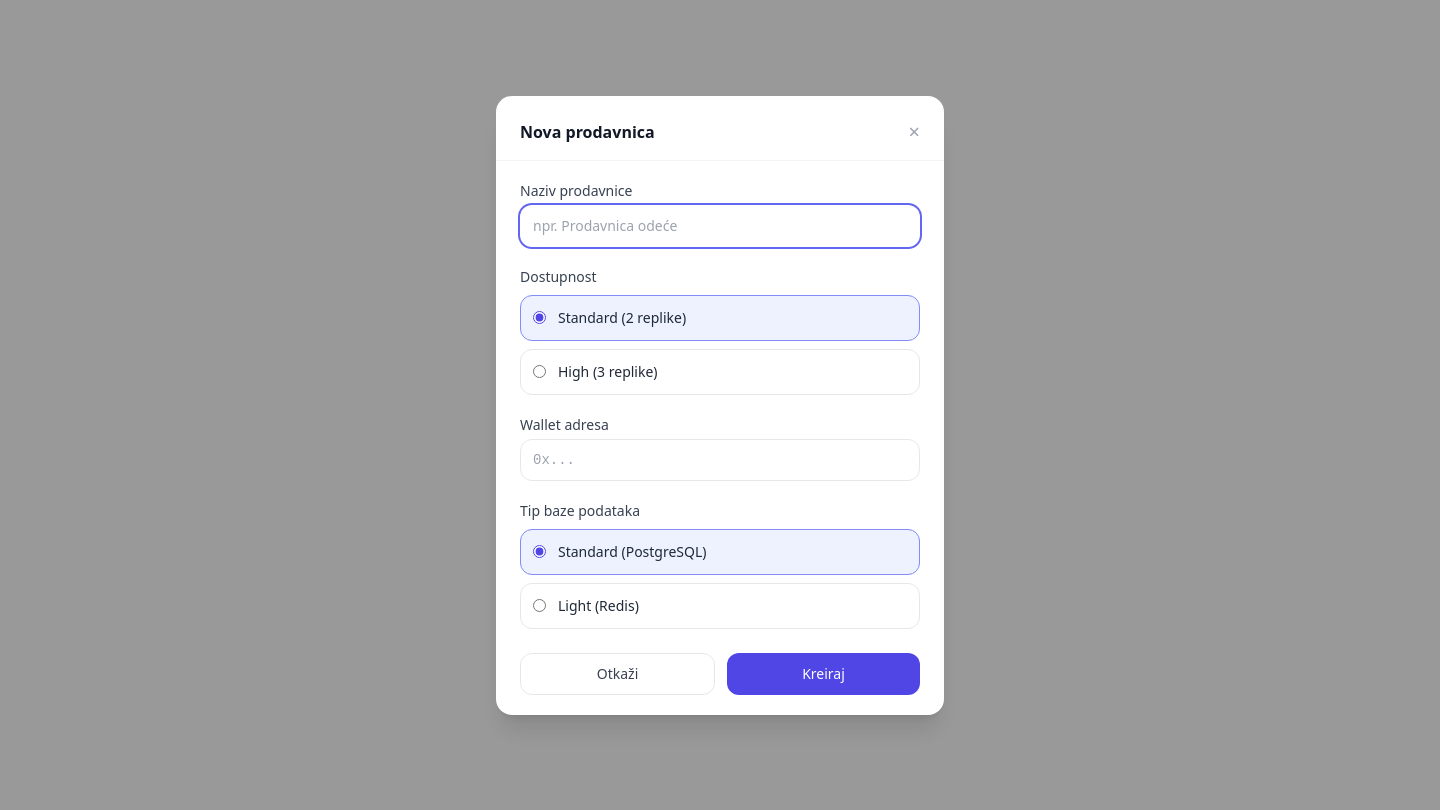
Test: CreateStoreModal › shows validation error when name is too short
Type "A" into the field with placeholder "npr. Prodavnica odeće" at (720, 226), box [520,204,920,246]
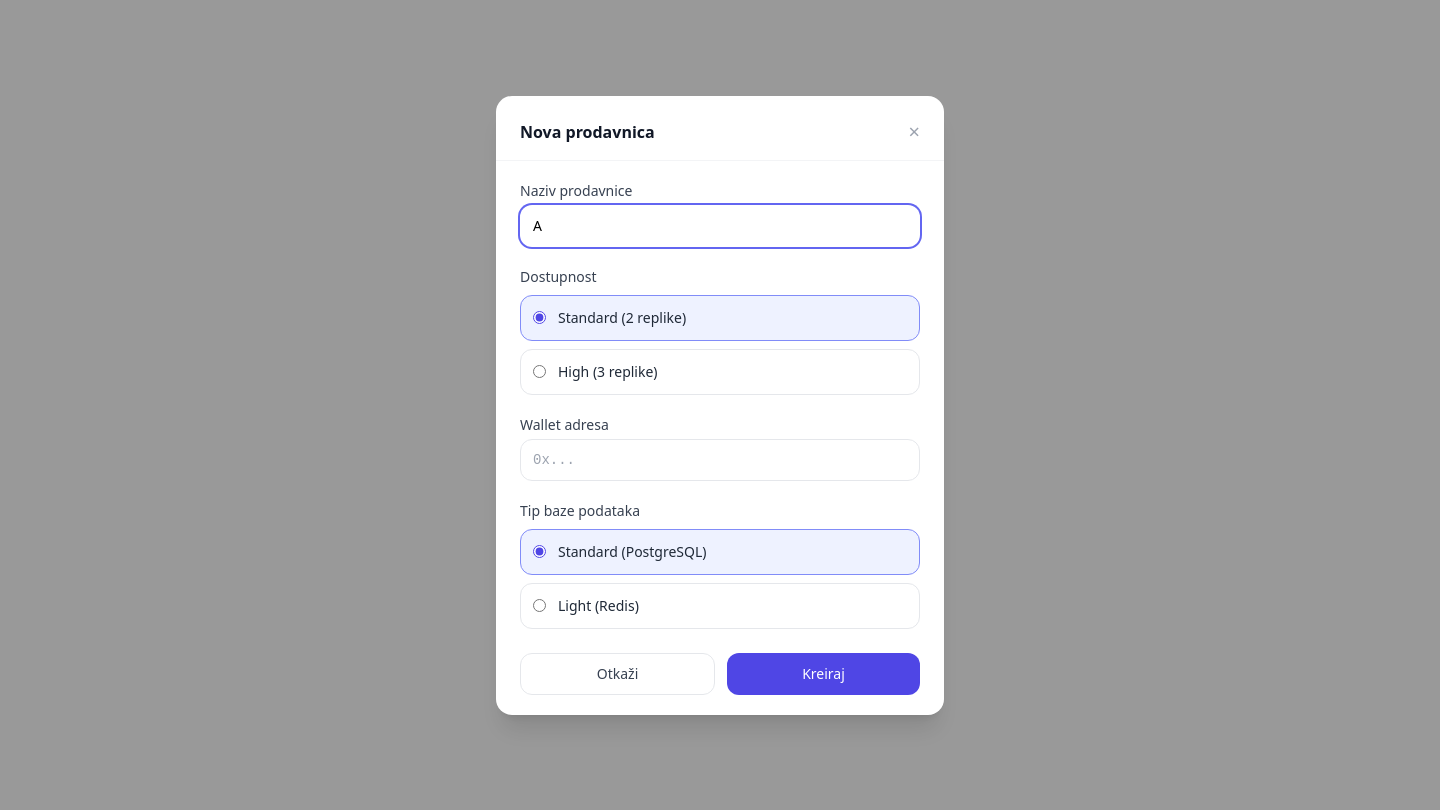
Type "0xabc" into the field with placeholder "0x..." at (720, 460), box [520,438,920,480]
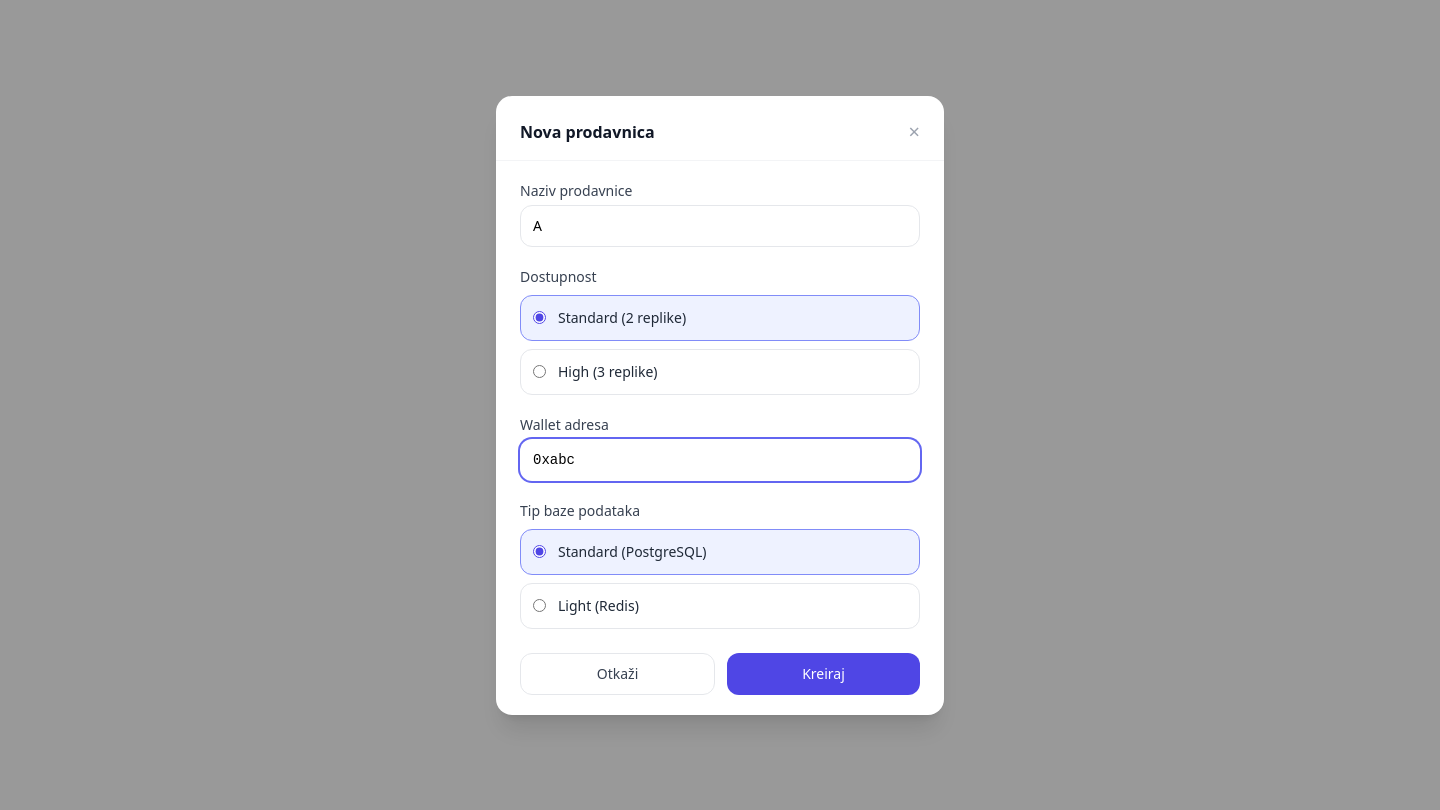
Click the button "Kreiraj" at (824, 674), box [727,652,920,694]
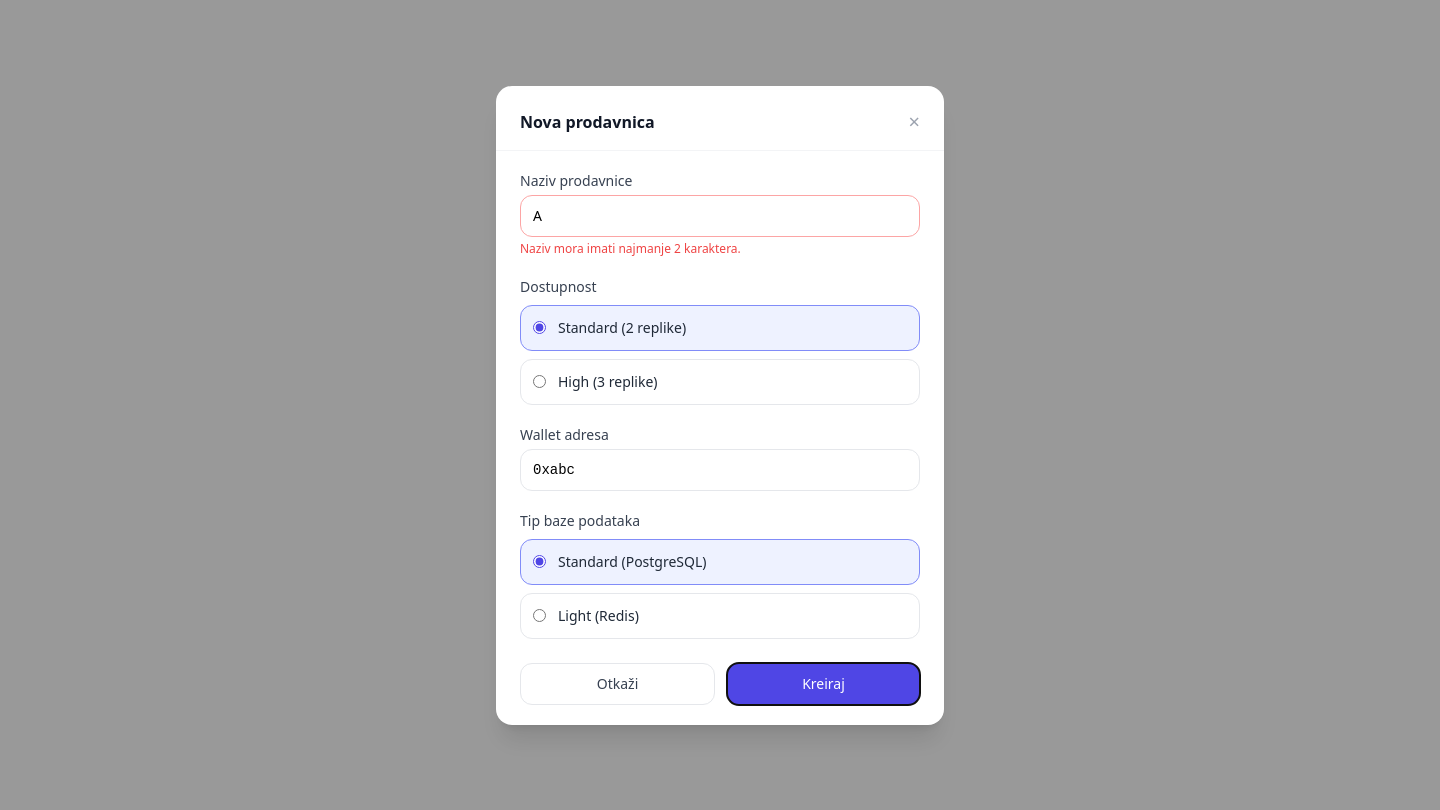
Now the text "Naziv mora imati najmanje 2 karaktera." is shown, box [520,240,741,256]
